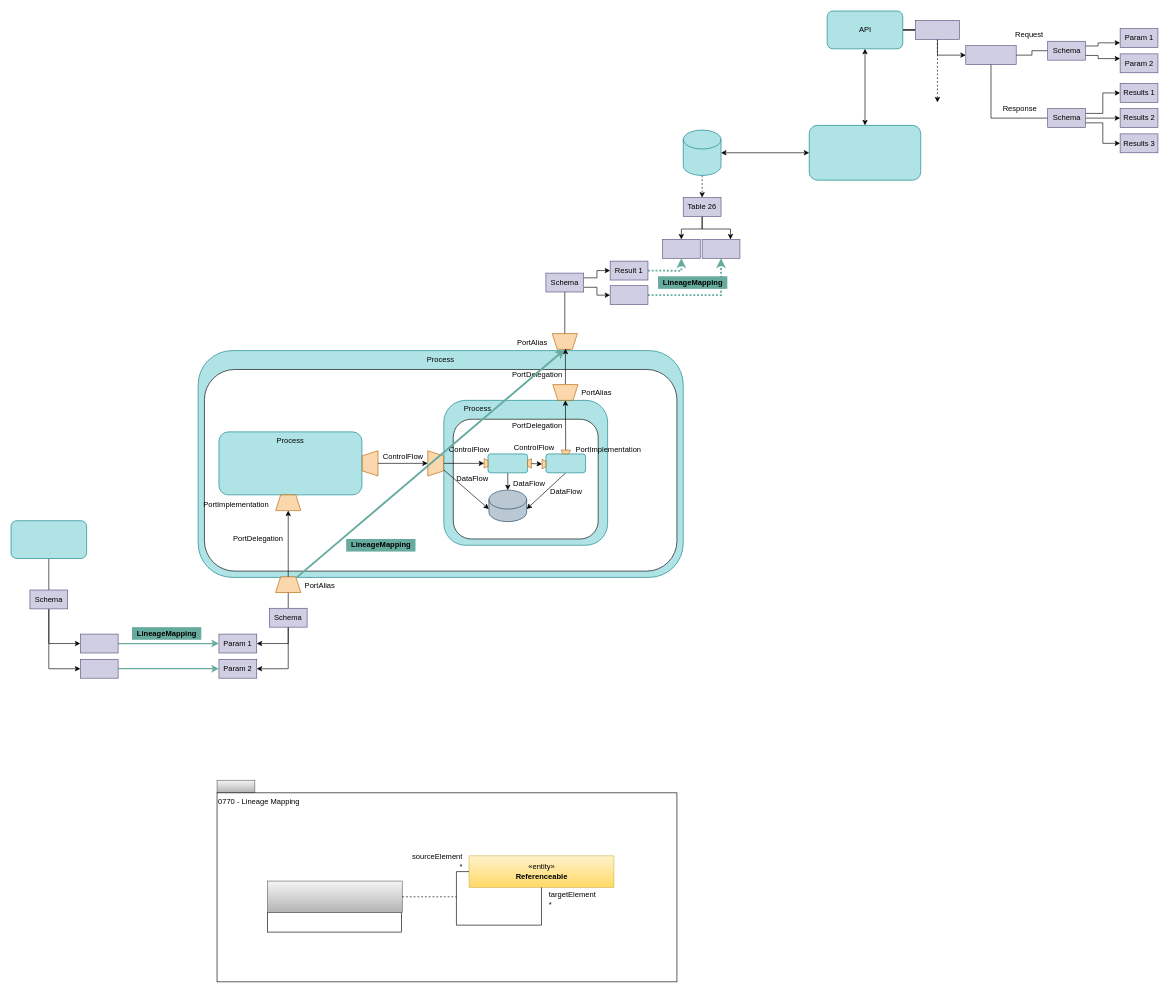
This 1169x993 diagram has some shape labels left out. The shapes that lost their labels are listed below. From the top down, each one's centre as x and y in pixels, then its label:
At (x=937, y=29): "APISchema".
At (x=990, y=55): "APIOperation".
At (x=702, y=152): "Database".
At (x=865, y=152): "Microservice".
At (x=681, y=248): "Column S".
At (x=721, y=248): "Column A".
At (x=629, y=295): "Result 2".
At (x=48, y=539): "CSV DataStore".
At (x=99, y=643): "Col 1".
At (x=99, y=668): "Col 2".
At (x=334, y=896): "«relationship» LineageMapping".
